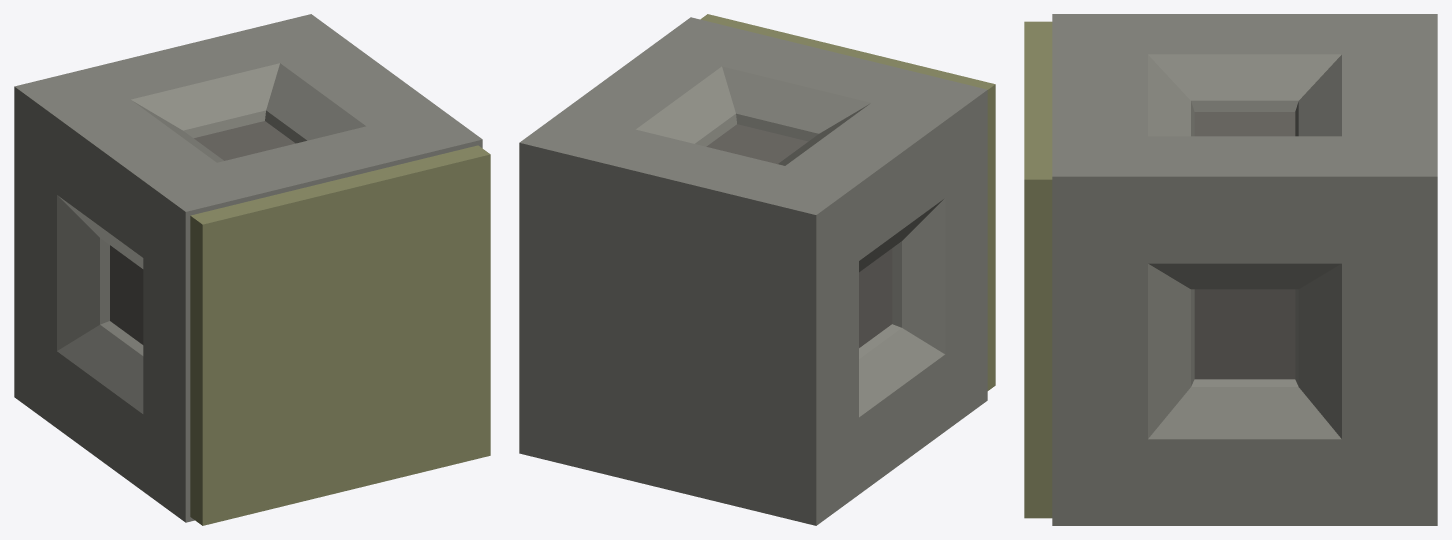
The model's file is spawn.glb.
3 renders of one model, left to right at view 1: azimuth 30°, elevation 25°; view 2: azimuth 150°, elevation 25°; view 3: azimuth 270°, elevation 25°, orthographic. The views are drawn at different scales.
Visible parts, largest first — view 1: Cube.002; view 2: Cube.002; view 3: Cube.002.
Part boxes in pixels (x1,y1,x2,y2): Cube.002: (14,14,490,525); Cube.002: (519,14,995,525); Cube.002: (1024,14,1437,525).
Bounding box in the file's own units: 1 × 1 × 1.07.
Materials: 1 (1 with a texture image).
